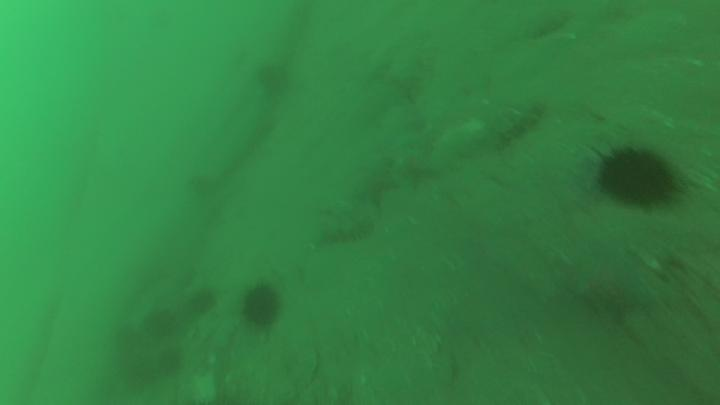echinus: (582, 134, 693, 221), (239, 280, 288, 334), (138, 306, 178, 340), (184, 285, 223, 319)
holothurian: (489, 98, 548, 150)
starfish: (569, 236, 656, 331)
